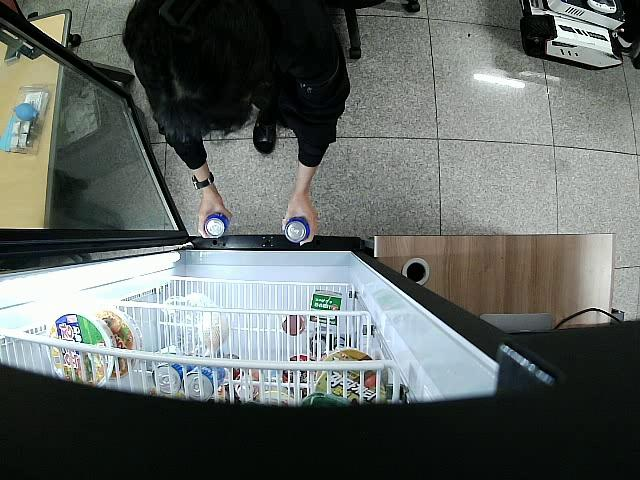00_hand: (281, 191, 318, 247), (197, 193, 233, 240)
13_pocariSweat: (283, 217, 310, 243), (204, 212, 229, 239)
